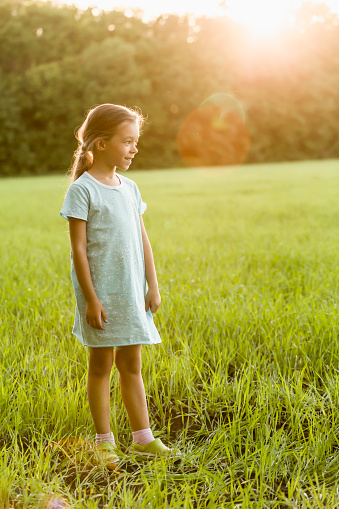em pe: (57, 87, 184, 497)
